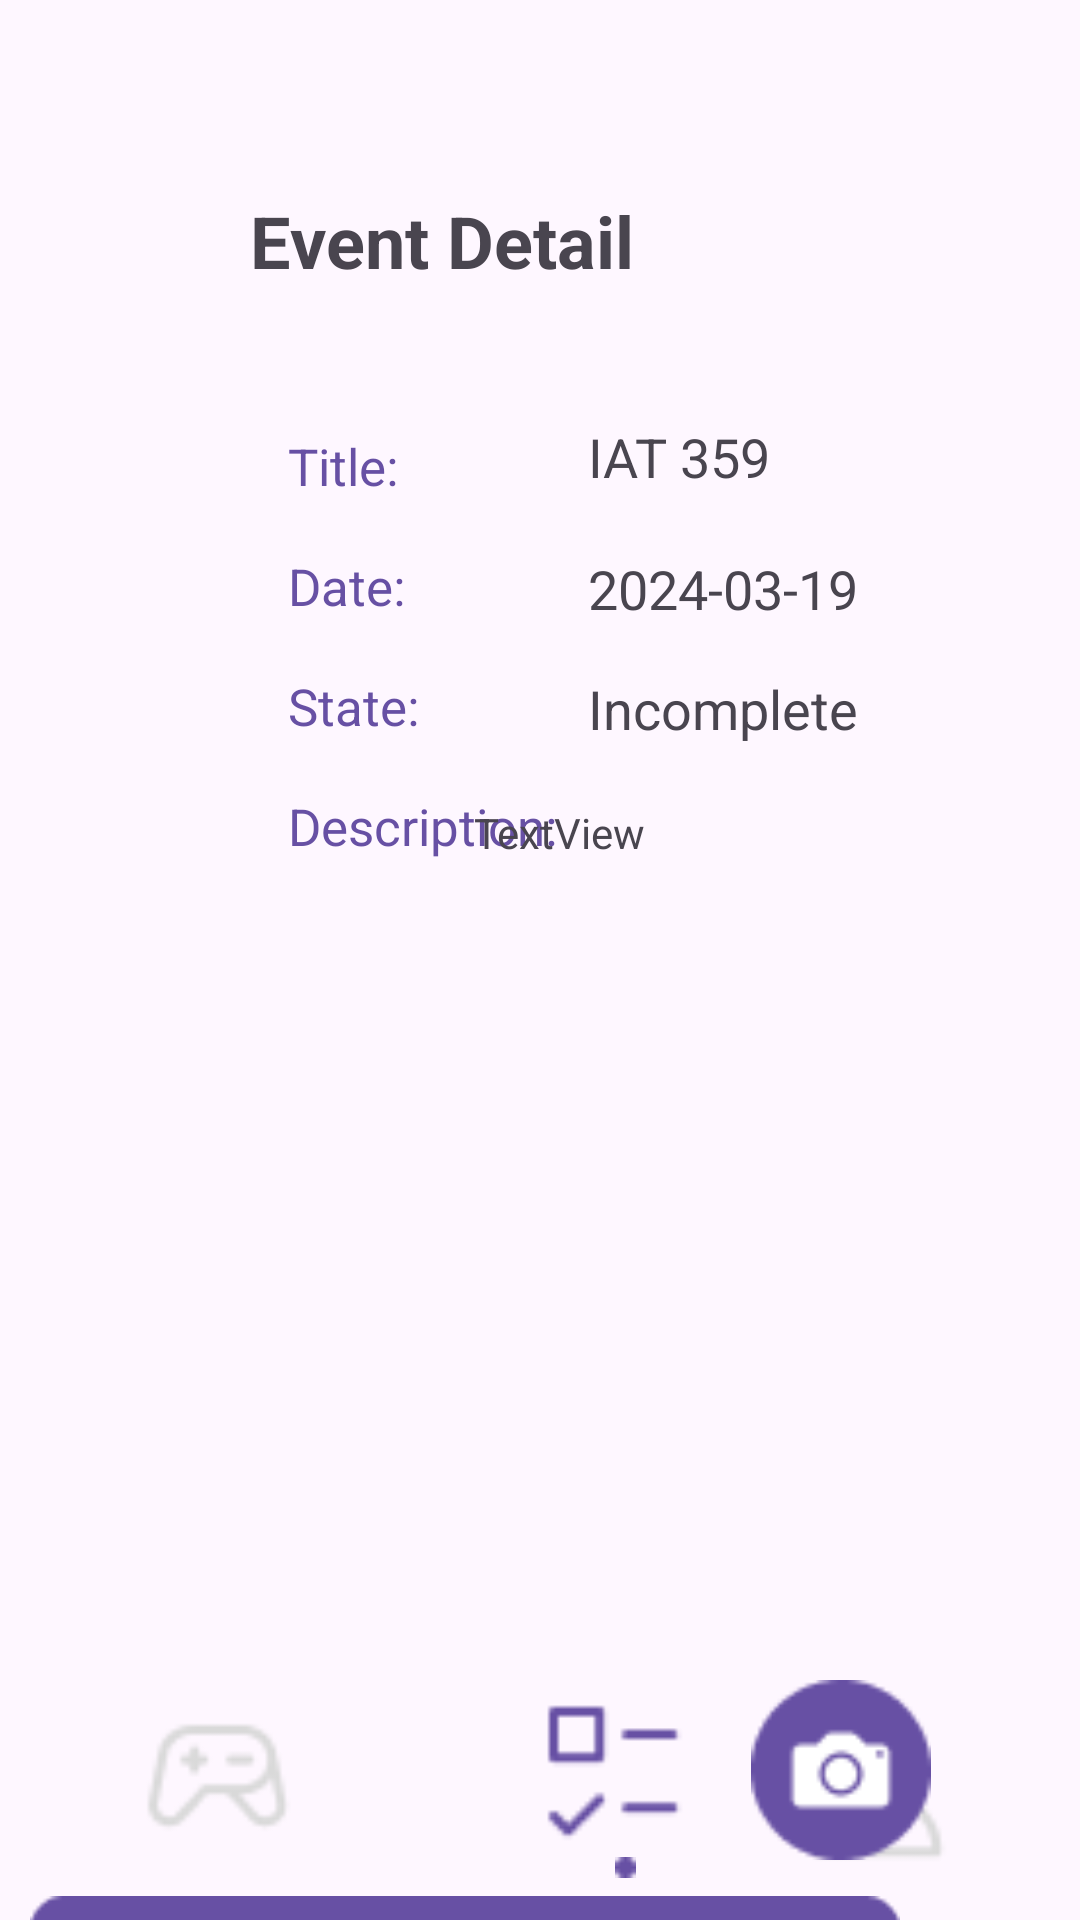

Screen size 1080x1920. Icon name, then its center in pixels as [x,y]:
playground: [217,1775]
